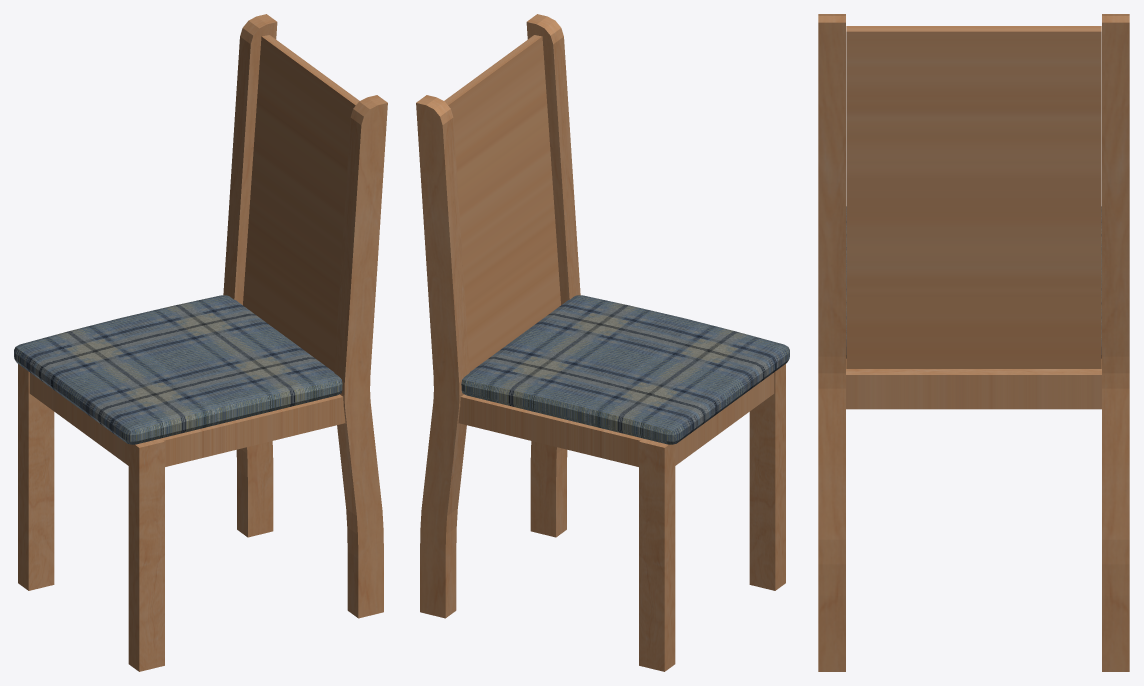
File: cadeira.fbx
3 views of the same model, side by side, from view 1: azimuth 30°, elevation 25°; view 2: azimuth 150°, elevation 25°; view 3: azimuth 270°, elevation 25° (orthographic). The views are drawn at different scales.
Parts seen in each view (by area): view 1: cadeira; view 2: cadeira; view 3: cadeira.
Part boxes in pixels (x1,y1,x2,y2): cadeira: [14, 14, 387, 671]; cadeira: [416, 14, 789, 671]; cadeira: [818, 14, 1129, 671].
Bounding box in the file's own units: 0.5035 × 0.411 × 0.95.
